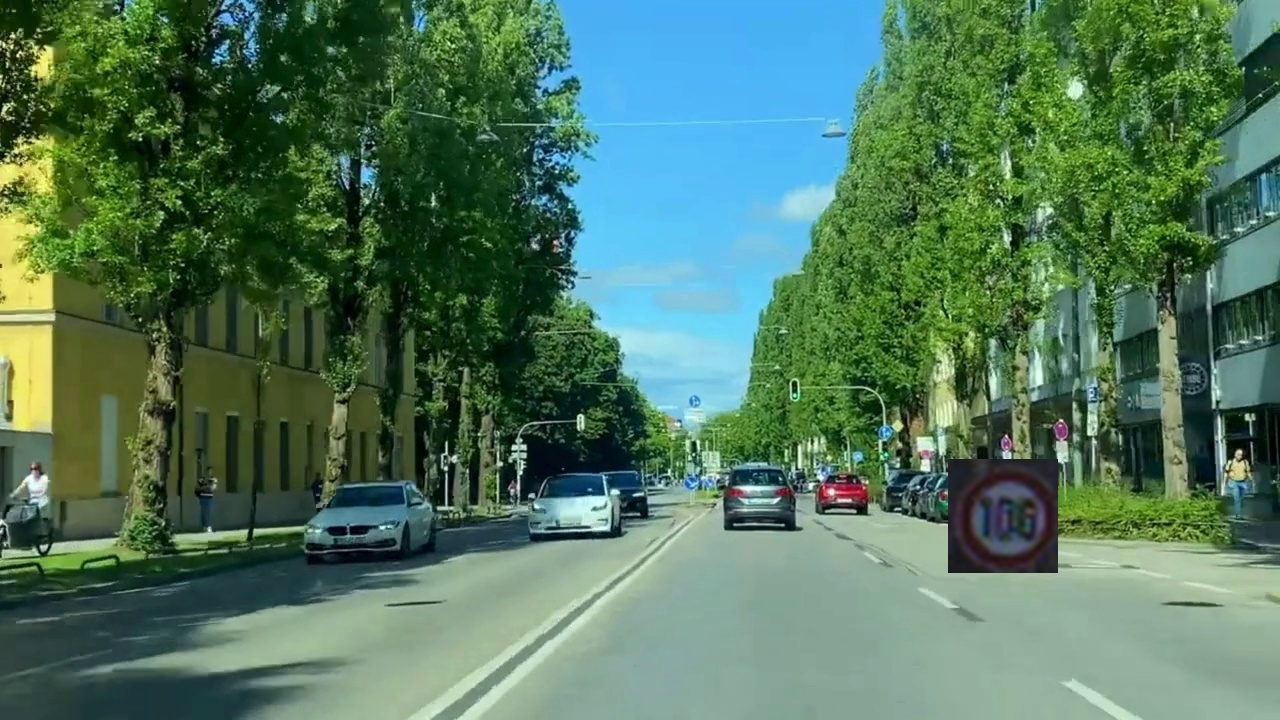Speed 100: (948, 459, 1058, 573)
